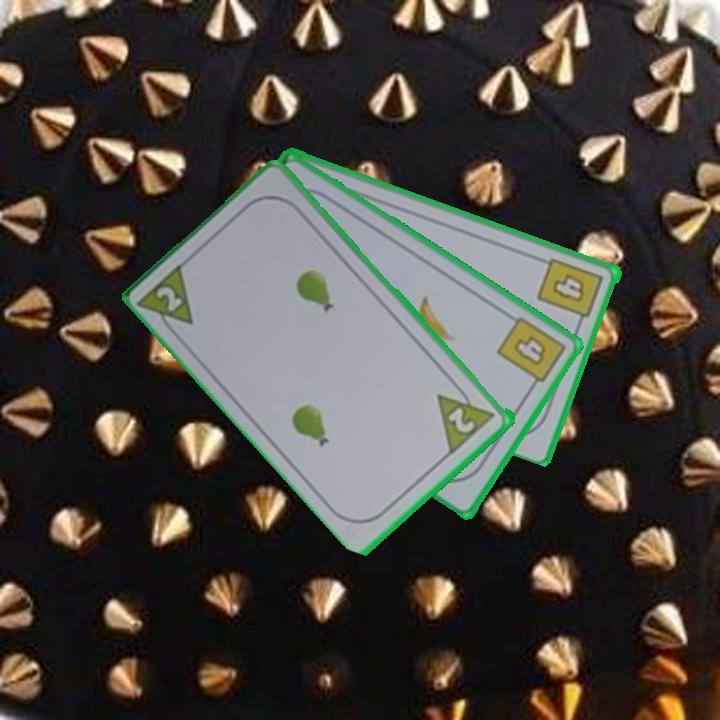2p: (445, 404, 479, 437), (153, 282, 186, 315)
4b: (493, 312, 569, 394), (534, 254, 607, 329)
